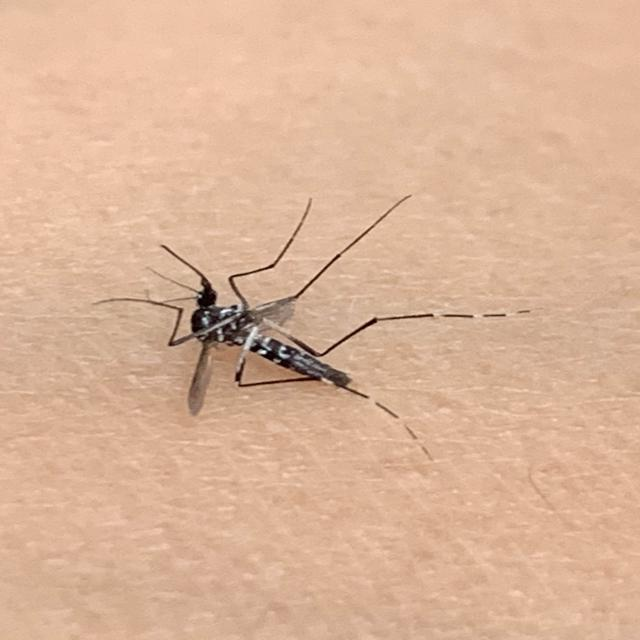albopictus: (80, 180, 531, 468)
